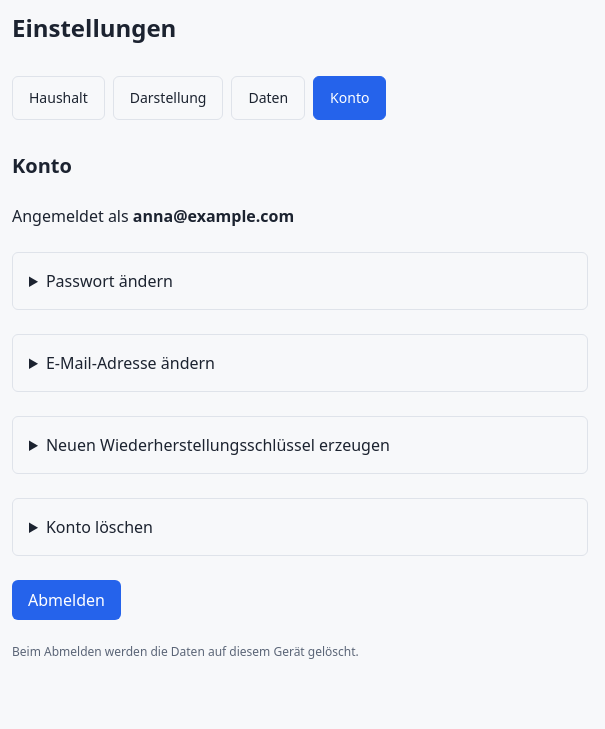
Test: Einstellungen: Konto › Passwort ändern: ein Fehler wird angezeigt, kein Erfolg gemeldet
Expected: the heading "Konto" is shown, [12,152,72,179]
Step 1. Click the heading "Passwort ändern" → (109, 281), box [46,270,173,292]
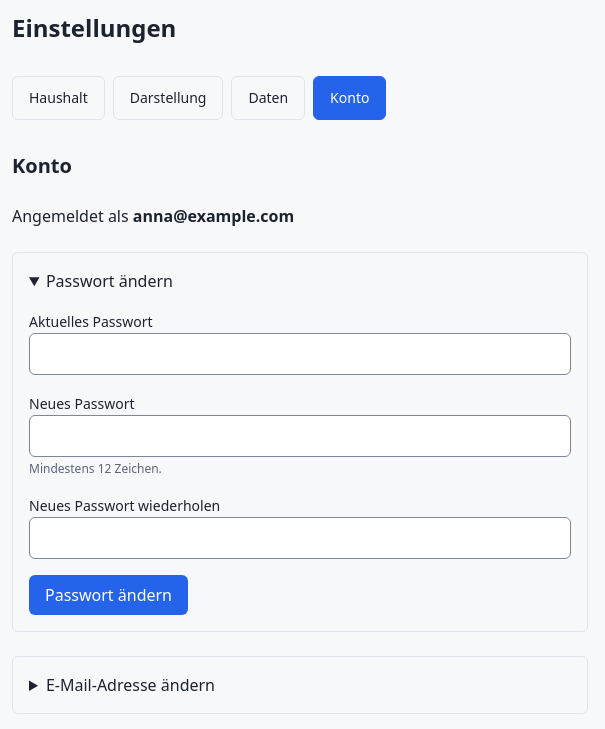
Step 2. Type "falsch" into the password field labelled "Aktuelles Passwort" → (300, 354), box [29,333,571,375]
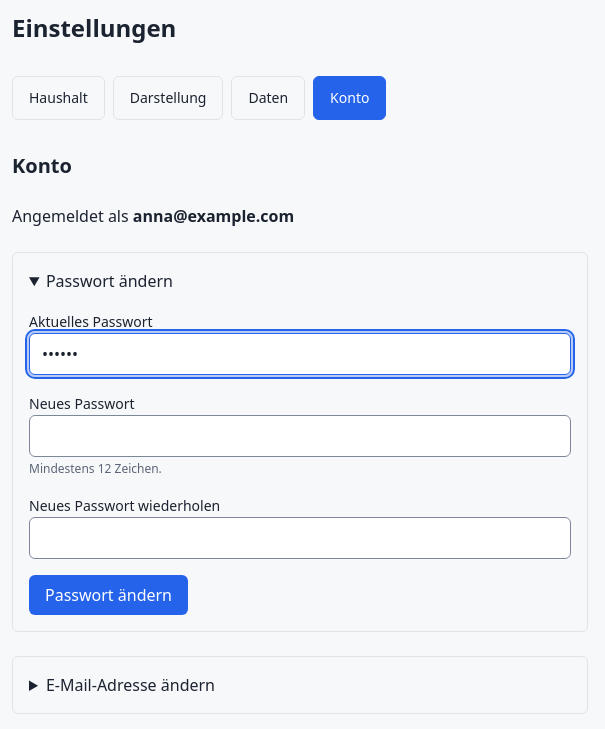
Step 3. Type "Neues-Passwort-456" into the password field labelled "Neues Passwort" → (300, 436), box [29,415,571,457]
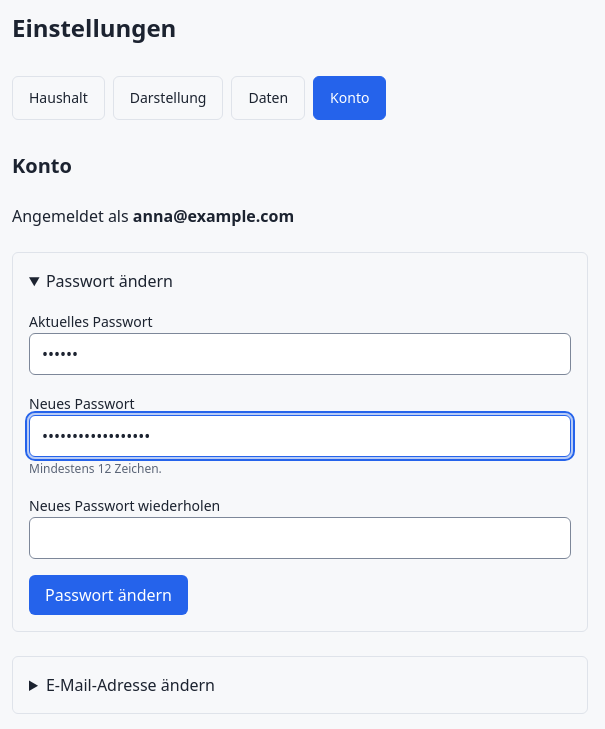
Step 4. Type "Neues-Passwort-456" into the password field labelled "Neues Passwort wiederholen" → (300, 538), box [29,517,571,559]
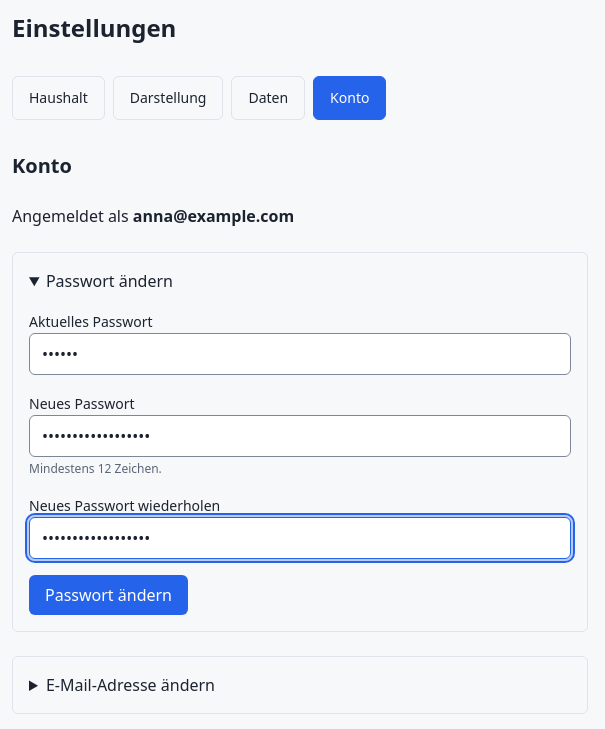
Step 5. Click the button "Passwort ändern" → (108, 595), box [29,575,188,615]
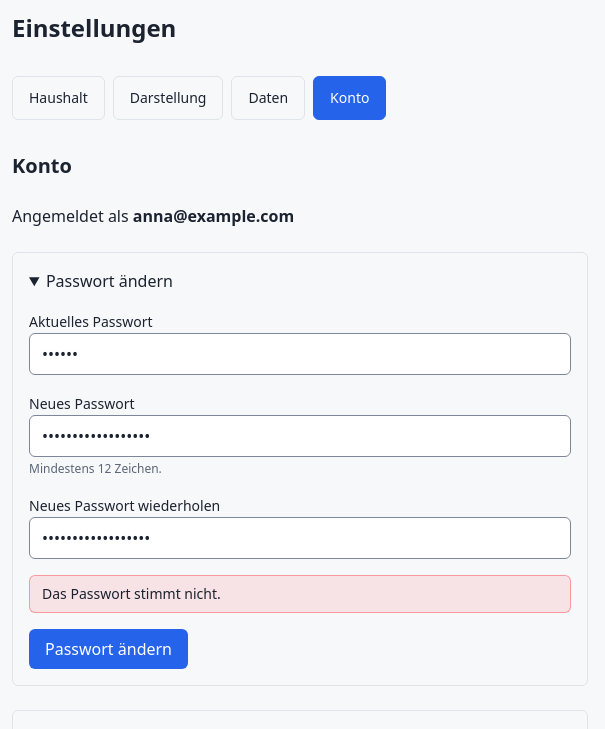
Expected: the message reads "Das Passwort stimmt nicht.", [42,584,221,603]
